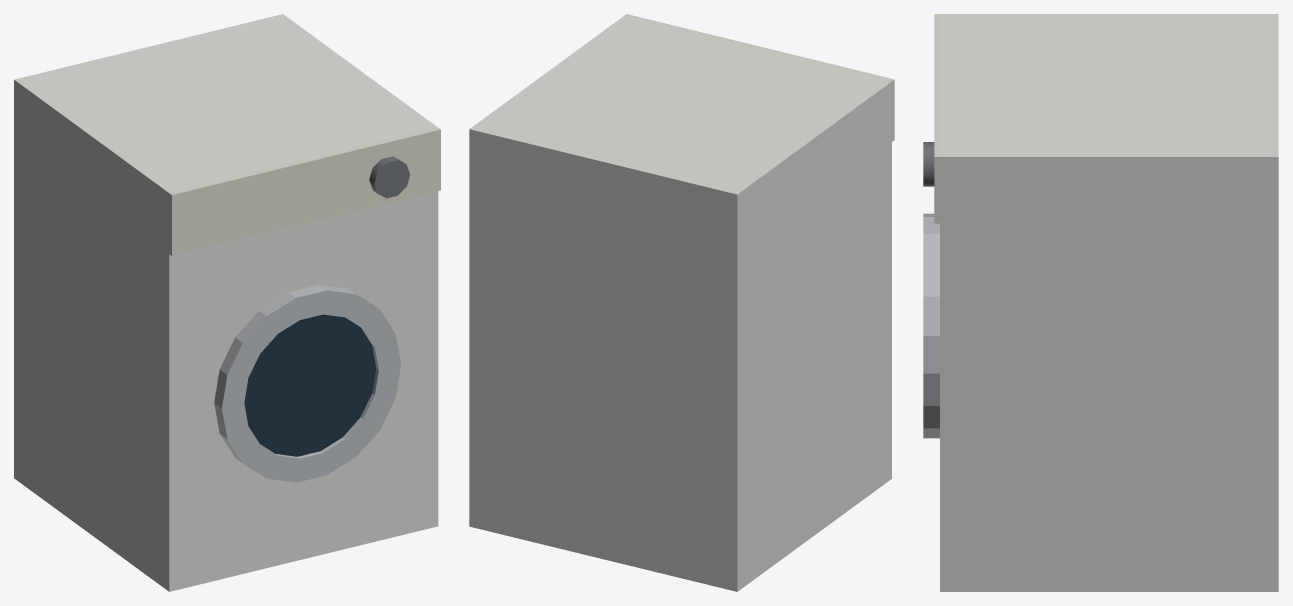
The model's file is sb_washing_machine.glb.
3 renders of one model, left to right at view 1: azimuth 30°, elevation 25°; view 2: azimuth 150°, elevation 25°; view 3: azimuth 270°, elevation 25°, orthographic. The views are drawn at different scales.
Parts seen in each view (by area): view 1: sb_washing_machine; view 2: sb_washing_machine; view 3: sb_washing_machine.
Boxes of the visible parts, x1,y1,x2,y2 form: sb_washing_machine: (14,14,440,591); sb_washing_machine: (469,14,894,591); sb_washing_machine: (923,14,1278,591).
Bounding box in the file's own units: 0.6 × 0.85 × 0.63.
